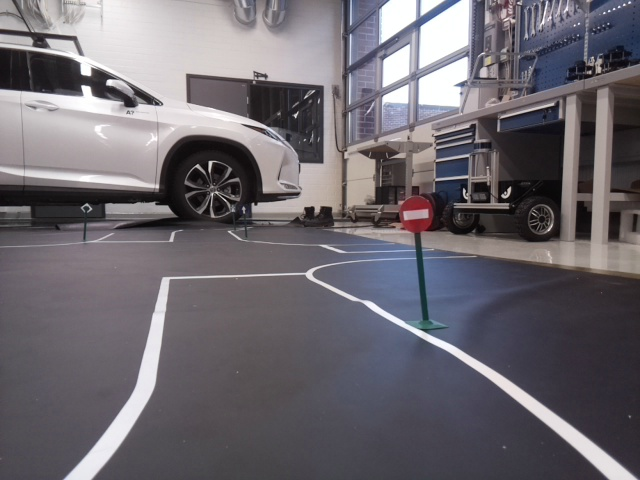NoEntry: (398, 193, 431, 232)
OneWay: (237, 203, 250, 216)
